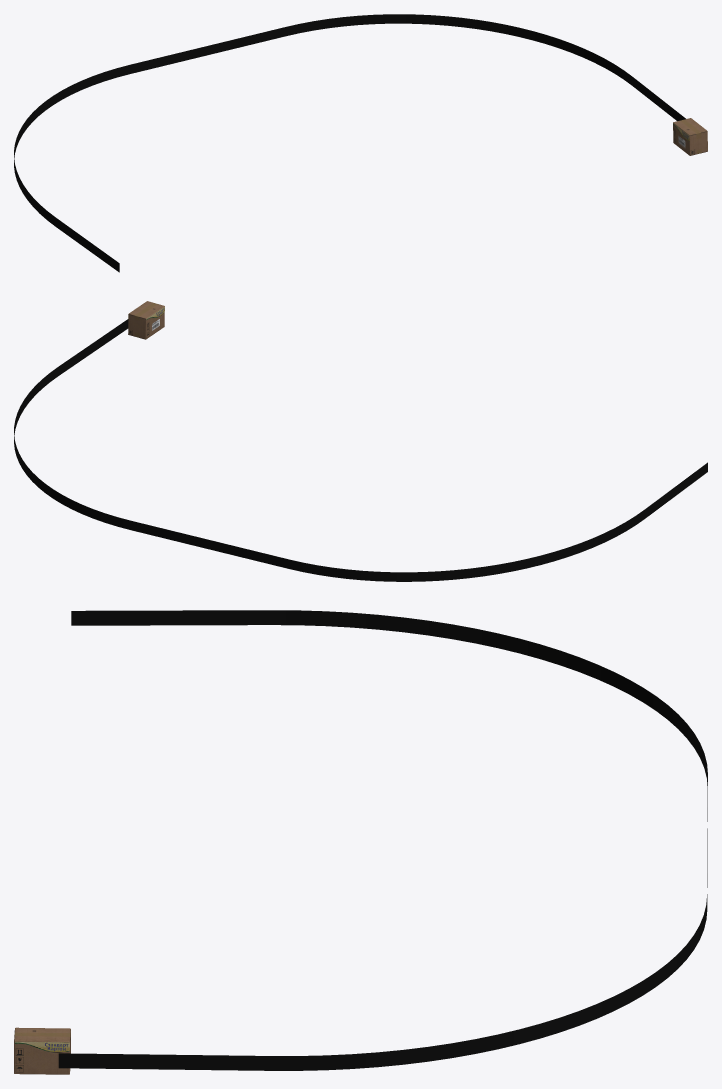
3 renders of one model, top to bottom at view 1: azimuth 30°, elevation 25°; view 2: azimuth 150°, elevation 25°; view 3: azimuth 270°, elevation 25°, orthographic. The views are drawn at different scales.
Visible parts, largest first — view 1: Line006, 290x170x190_024; view 2: Line006, 290x170x190_024; view 3: Line006, 290x170x190_024.
Boxes of the visible parts, bbox=[...] form: Line006: bbox=[14, 14, 685, 272]; 290x170x190_024: bbox=[673, 118, 707, 155]; Line006: bbox=[14, 319, 707, 581]; 290x170x190_024: bbox=[128, 301, 164, 339]; Line006: bbox=[58, 610, 707, 1070]; 290x170x190_024: bbox=[14, 1027, 70, 1074].
Bounding box in the file's own units: 9302 × 328 × 6118.
Materials: 2 (1 with a texture image).
